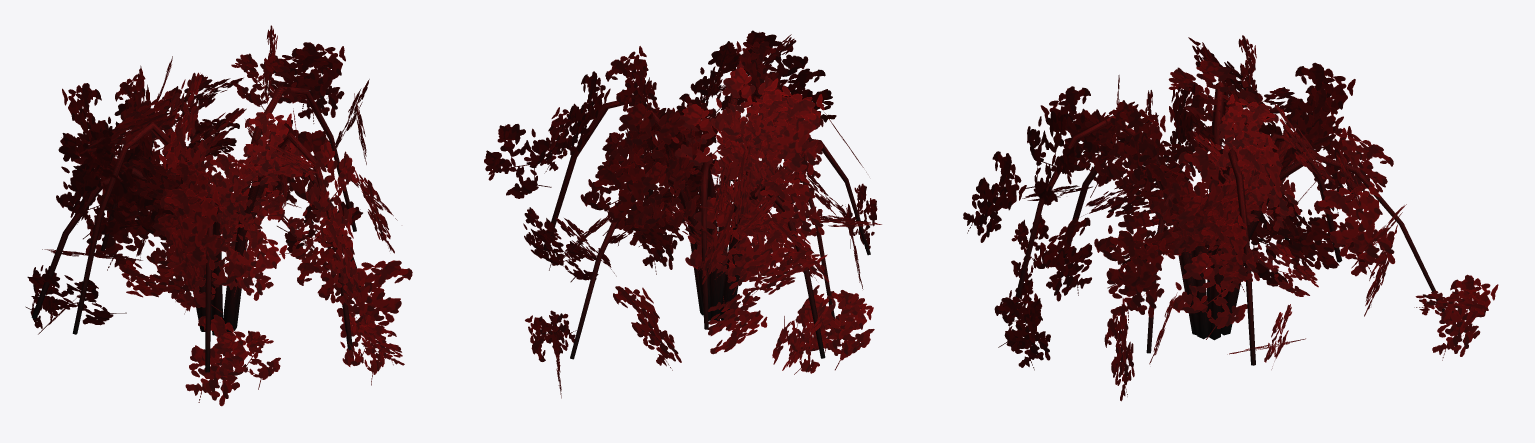
Rendered from bush_grassland_bramble_a.glb.
The picture shows the model from 3 angles, left to right: view 1: azimuth 30°, elevation 25°; view 2: azimuth 150°, elevation 25°; view 3: azimuth 270°, elevation 25°; orthographic projection. The views are drawn at different scales.
Parts seen in each view (by area): view 1: bush_grassland_bramble_a; view 2: bush_grassland_bramble_a; view 3: bush_grassland_bramble_a.
Part boxes in pixels (bbox=[...]): bush_grassland_bramble_a: bbox=[25, 25, 412, 406]; bush_grassland_bramble_a: bbox=[484, 30, 881, 398]; bush_grassland_bramble_a: bbox=[963, 35, 1498, 401].
Bounding box in the file's own units: 1.71 × 1.33 × 2.22.
Materials: 1 (1 with a texture image).
